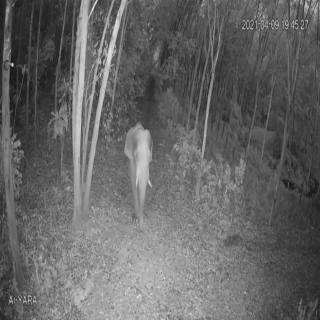Elephant: (123, 114, 156, 229)
